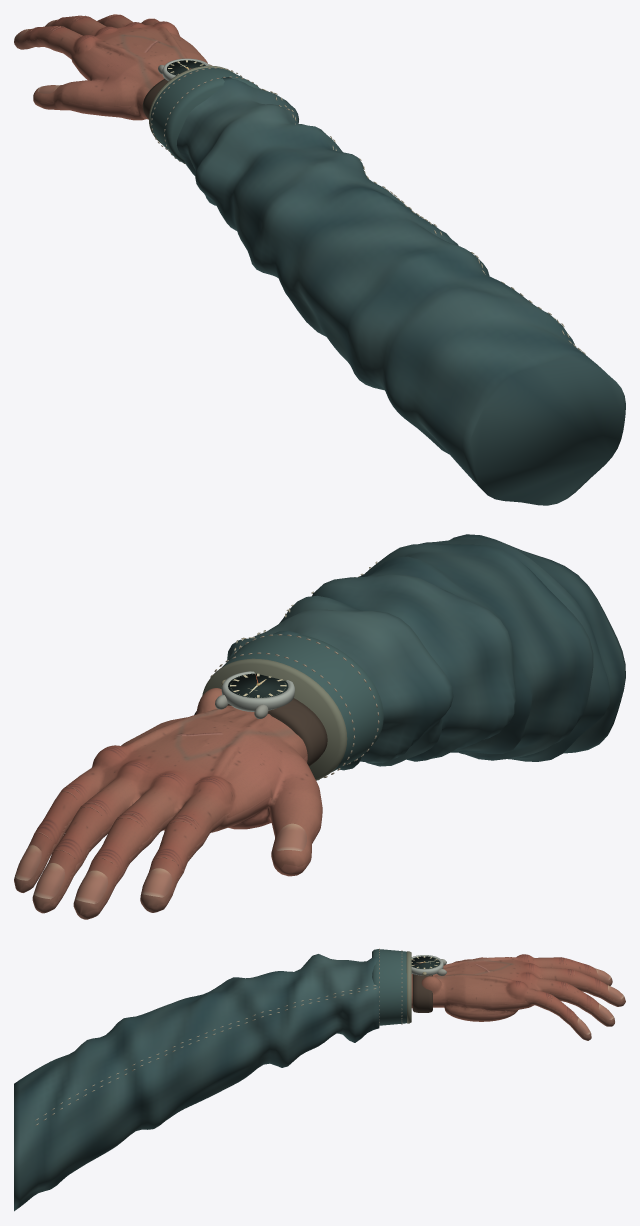
The model's file is janitor.glb.
3 renders of one model, top to bottom at view 1: azimuth 30°, elevation 25°; view 2: azimuth 150°, elevation 25°; view 3: azimuth 270°, elevation 25°, orthographic. The views are drawn at different scales.
Visible parts, largest first — view 1: Janitor | twill coverall, articulated folds, Janitor | callused hand, Janitor | stitched cuff, strap and watch dial; view 2: Janitor | twill coverall, articulated folds, Janitor | callused hand, Janitor | stitched cuff, strap and watch dial, Janitor | nickel case; view 3: Janitor | twill coverall, articulated folds, Janitor | callused hand, Janitor | stitched cuff, strap and watch dial, Janitor | nickel case.
Boxes of the visible parts, x1,y1,x2,y2 form: Janitor | twill coverall, articulated folds: (177,77,625,505); Janitor | callused hand: (14,14,211,120); Janitor | stitched cuff, strap and watch dial: (142,60,585,354); Janitor | twill coverall, articulated folds: (227,534,625,770); Janitor | callused hand: (14,688,322,919); Janitor | stitched cuff, strap and watch dial: (194,561,383,780); Janitor | nickel case: (215,671,294,718); Janitor | twill coverall, articulated folds: (14,954,379,1211); Janitor | callused hand: (411,954,625,1040); Janitor | stitched cuff, strap and watch dial: (35,948,440,1125); Janitor | nickel case: (411,955,446,975).
Bounding box in the file's own units: 0.2222 × 0.2218 × 0.5695.
Materials: 5 (1 with a texture image).
